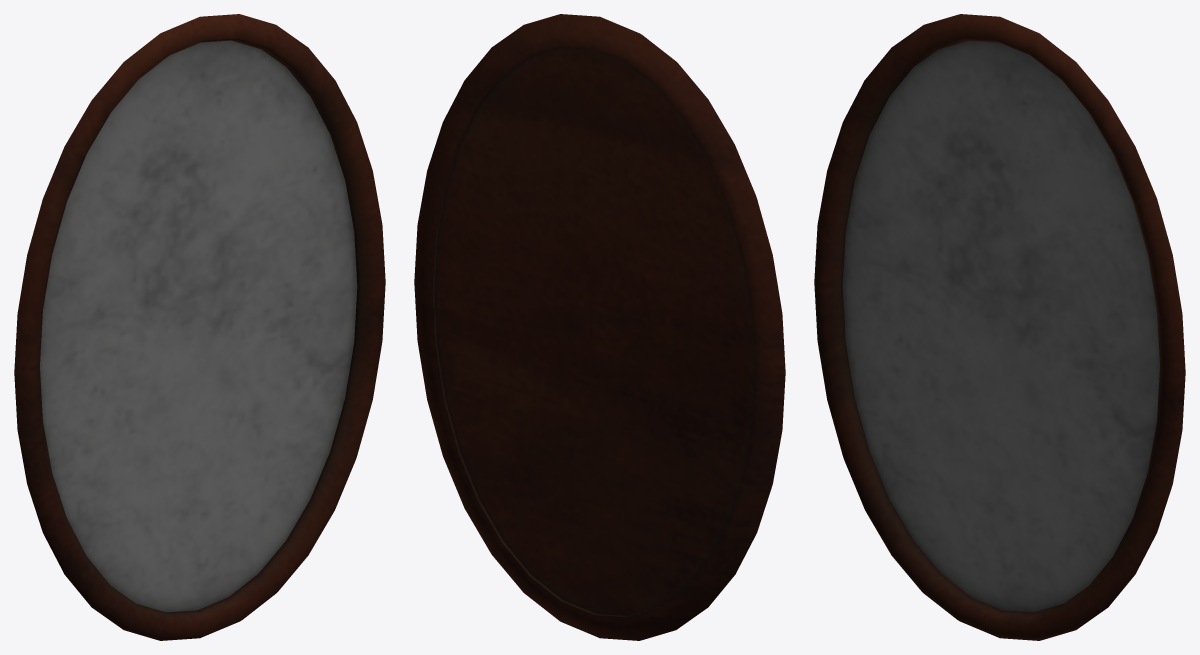
The model's file is Mirror_01.fbx.
3 renders of one model, left to right at view 1: azimuth 30°, elevation 25°; view 2: azimuth 150°, elevation 25°; view 3: azimuth 330°, elevation 25°, orthographic.
Visible parts, largest first — view 1: Mirror; view 2: Mirror; view 3: Mirror.
Part boxes in pixels (box(x1,y1,x2,y2)): Mirror: box(14, 14, 385, 640); Mirror: box(414, 14, 785, 640); Mirror: box(814, 14, 1185, 640).
Bounding box in the file's own units: 37.52 × 60 × 1.86.
